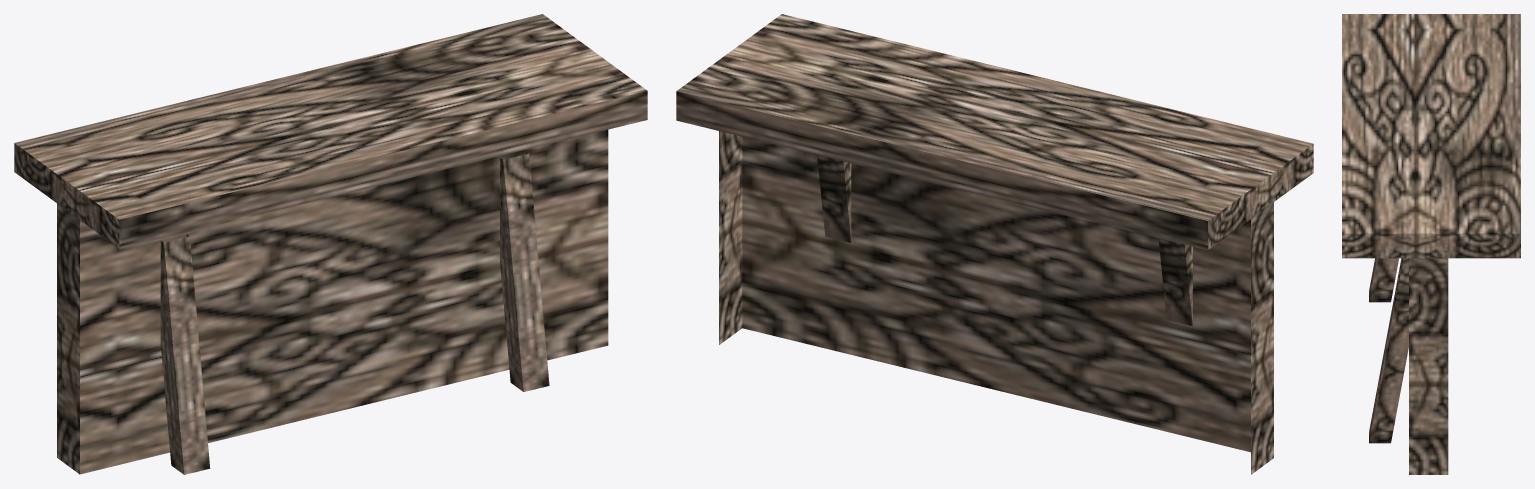
File: Furniture05.glb
3 views of the same model, side by side, from view 1: azimuth 30°, elevation 25°; view 2: azimuth 150°, elevation 25°; view 3: azimuth 270°, elevation 25° (orthographic). The views are drawn at different scales.
Parts seen in each view (by area): view 1: Furniture05; view 2: Furniture05; view 3: Furniture05.
Boxes of the visible parts, x1,y1,x2,y2 form: Furniture05: [14, 14, 647, 474]; Furniture05: [676, 14, 1313, 474]; Furniture05: [1342, 14, 1520, 474].
Size of the model in its own units: 2.03 by 1.05 by 0.6999.
1 material, 1 textured.
